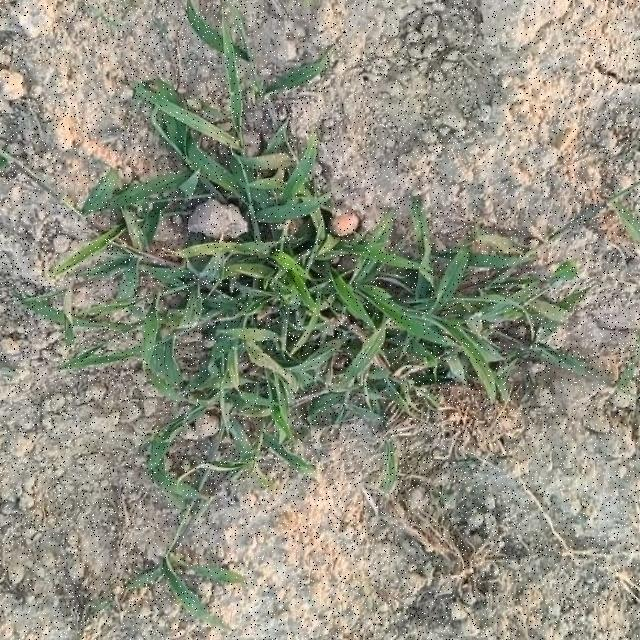weed: (22, 26, 584, 535), (136, 554, 210, 620)
